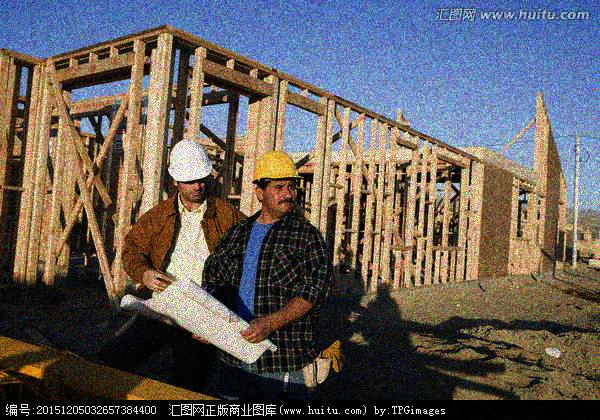helmet: (249, 149, 304, 214), (167, 138, 212, 202)
